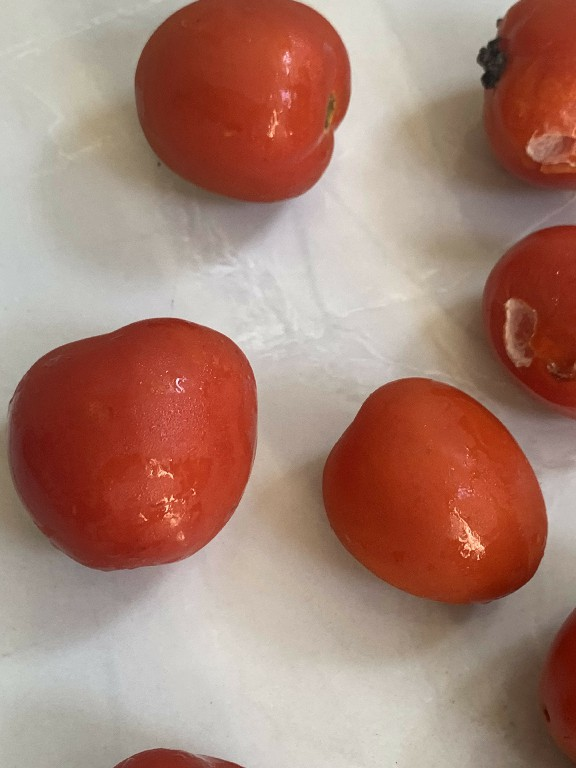OK: (0, 307, 275, 574), (295, 353, 555, 618), (120, 1, 374, 211)
